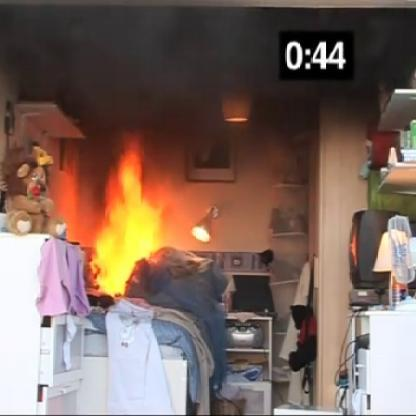fire: (84, 124, 172, 309)
smoke: (190, 206, 224, 266), (218, 93, 256, 135)
